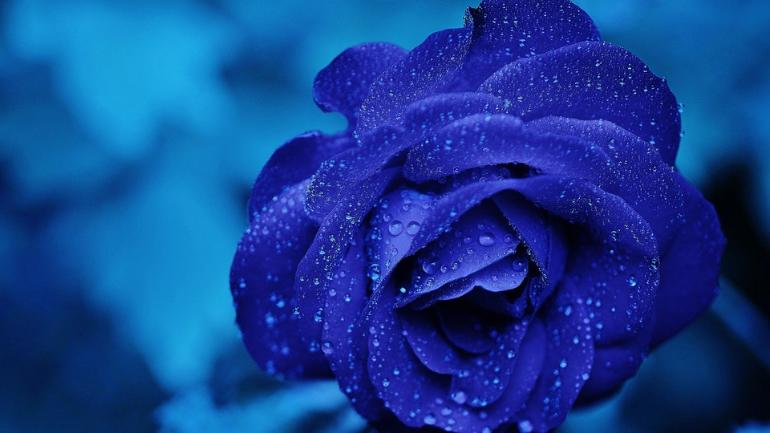rose: (220, 23, 722, 433)
